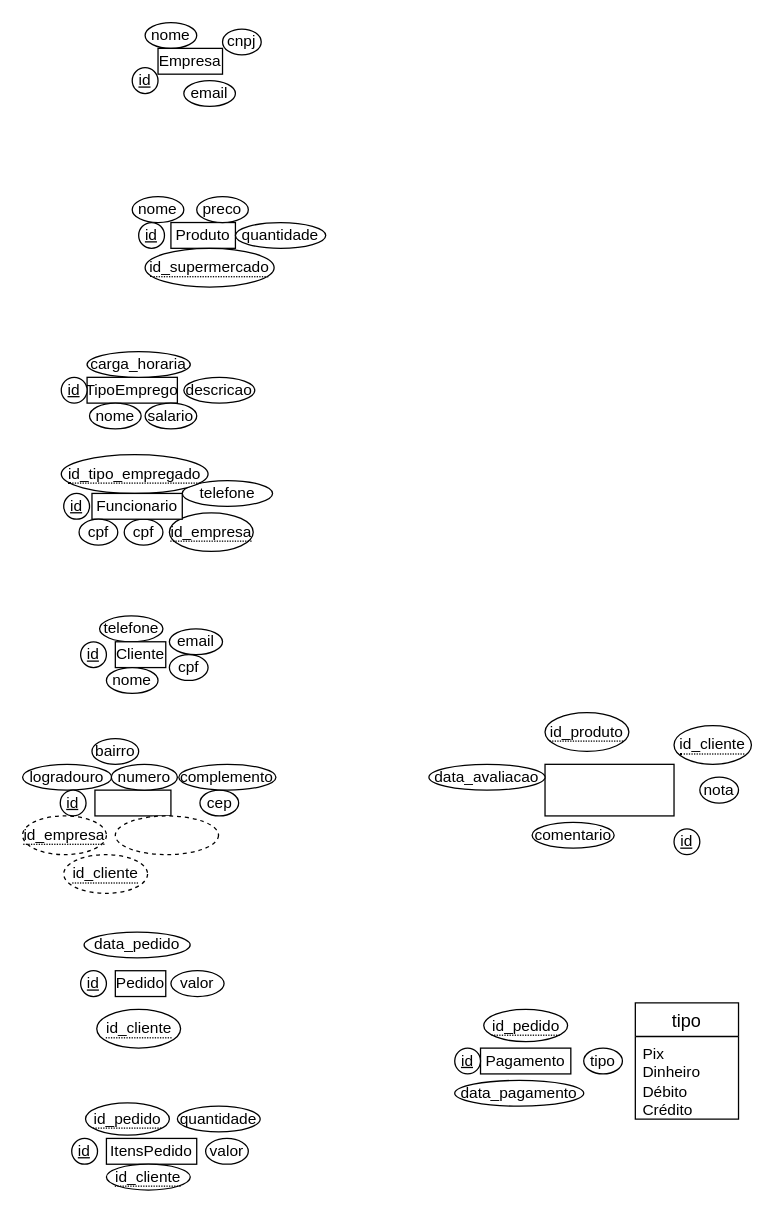
This 774x1213 diagram has some shape labels left out. The centre of each missing label's shape, as x and y in pixels:
"Avaliacao" goes at pixel 609 789.
"Endereco" goes at pixel 132 802.
"id_funcionario" goes at pixel 166 835.
